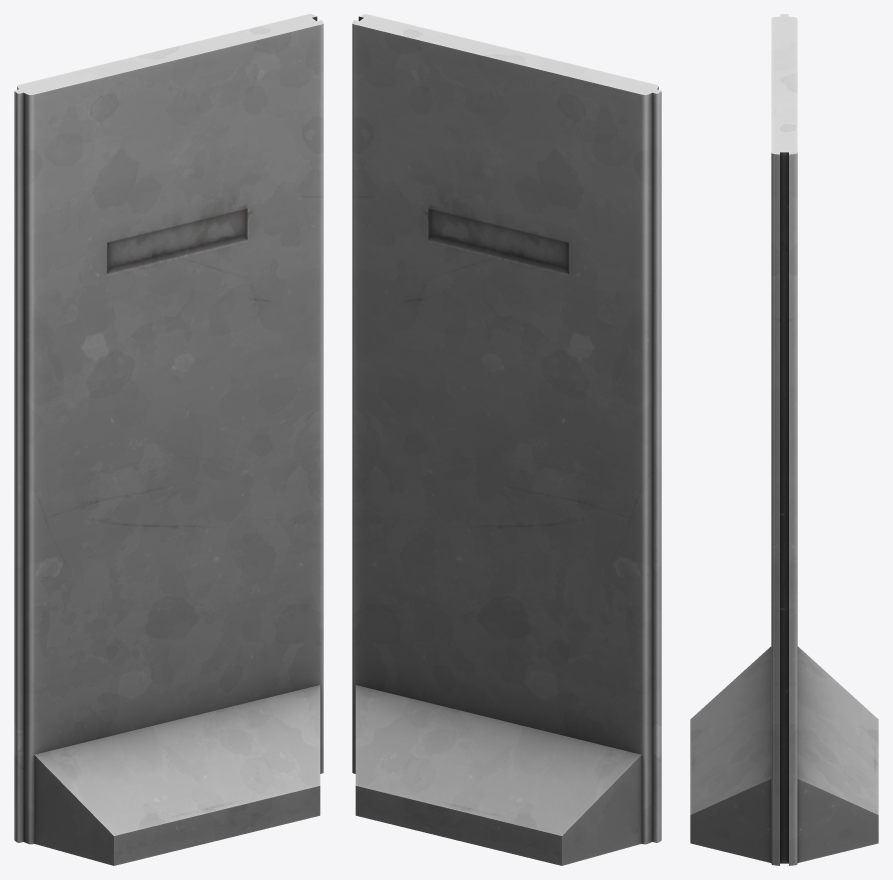
The model's file is BarrierConcrete01_1.FBX.
3 views of the same model, side by side, from view 1: azimuth 30°, elevation 25°; view 2: azimuth 150°, elevation 25°; view 3: azimuth 270°, elevation 25° (orthographic). The views are drawn at different scales.
Parts seen in each view (by area): view 1: BarrierConcrete01_1; view 2: BarrierConcrete01_1; view 3: BarrierConcrete01_1.
Part boxes in pixels (x1,y1,x2,y2): BarrierConcrete01_1: [14, 14, 323, 865]; BarrierConcrete01_1: [352, 14, 661, 865]; BarrierConcrete01_1: [690, 14, 878, 865].
Size of what is drawn, in the model's own units: 1.27 by 3 by 0.7195.
